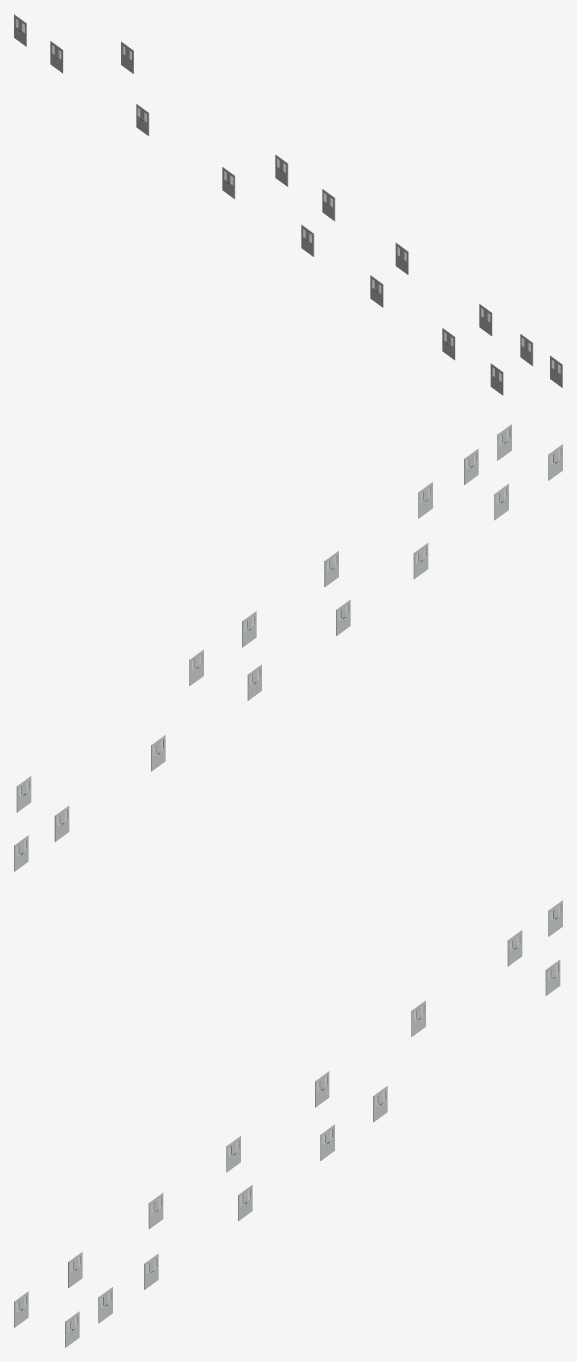
Rendered from SM_双开门.FBX.
3 views of the same model, one above another, from view 1: azimuth 30°, elevation 25°; view 2: azimuth 150°, elevation 25°; view 3: azimuth 330°, elevation 25° (orthographic). The views are drawn at different scales.
Size of the model in its own units: 4932 by 2037 by 78154.
